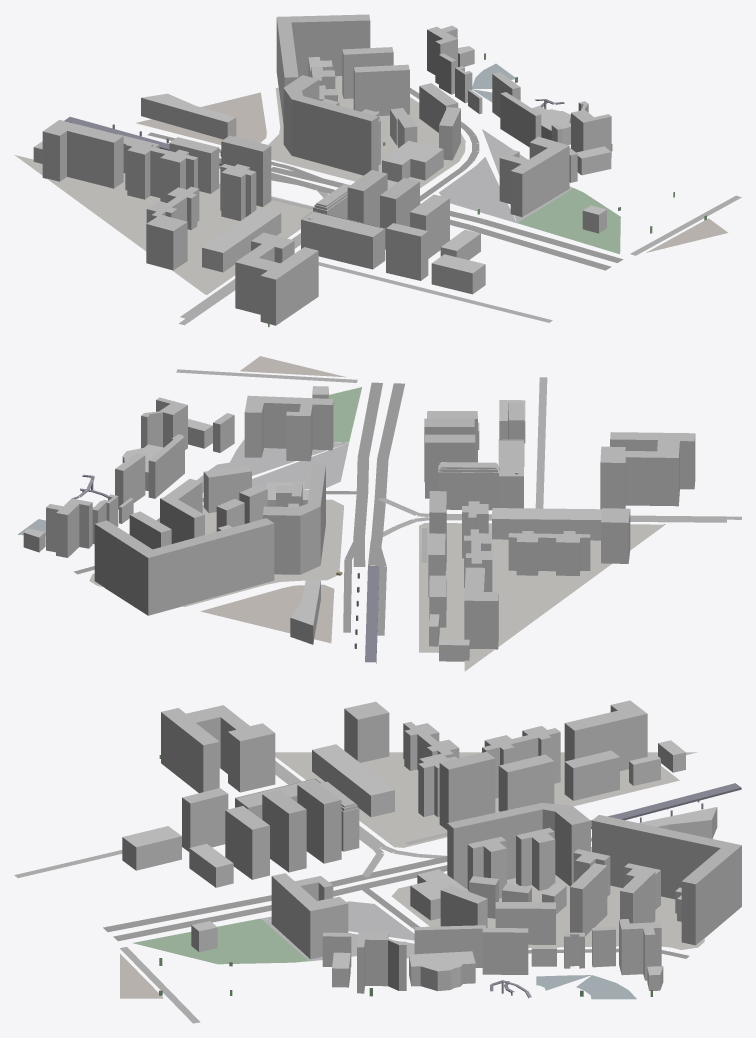
The picture shows the model from 3 angles, top to bottom: view 1: azimuth 30°, elevation 25°; view 2: azimuth 150°, elevation 25°; view 3: azimuth 270°, elevation 25°; orthographic projection. The views are drawn at different scales.
Bounding box in the file's own units: 606 × 60.75 × 623.
